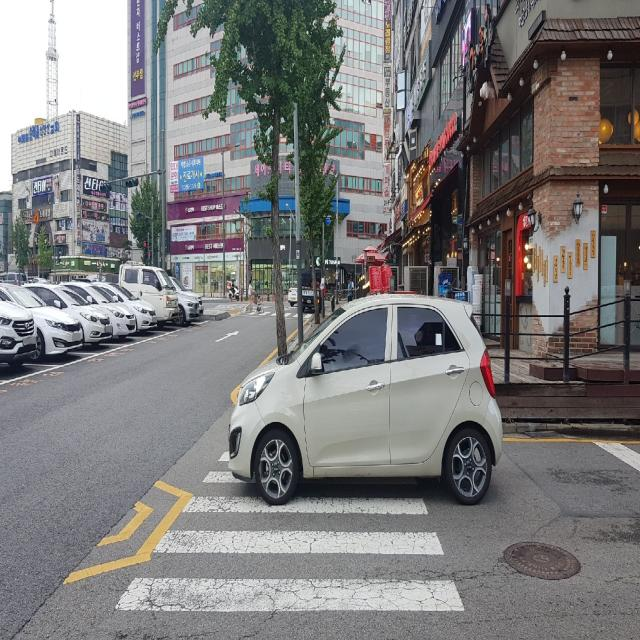횡단보도: (114, 449, 466, 614)
